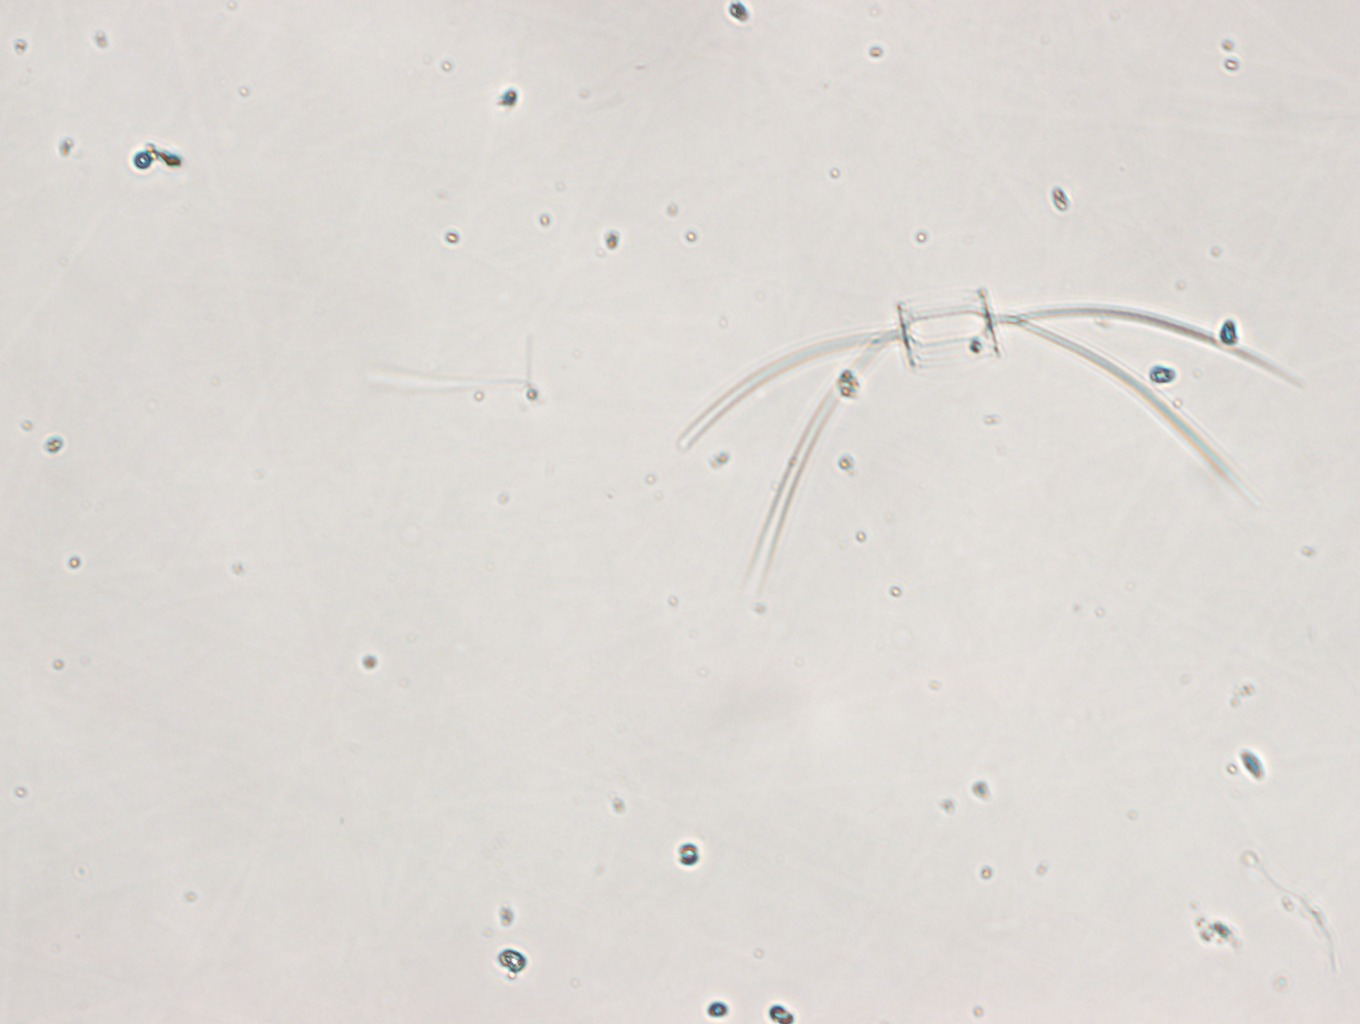chaetoceros: (674, 284, 1308, 613)
